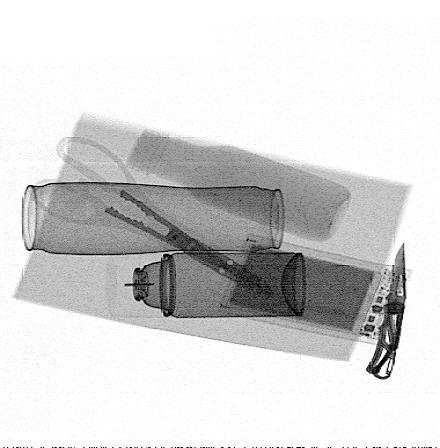Knife: (366, 240, 408, 380)
Powerbank: (215, 233, 412, 350)
Scissors: (28, 137, 273, 292)
Sprayer: (104, 253, 309, 317)
